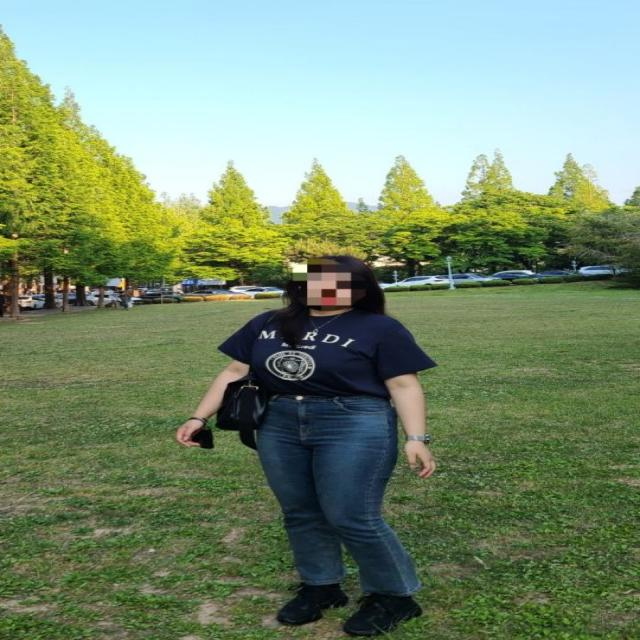denimpants: (253, 388, 422, 594)
shortsleeve: (222, 304, 440, 396)
